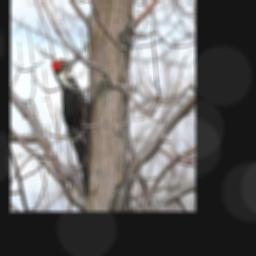Woodpecker: (50, 53, 93, 205)
